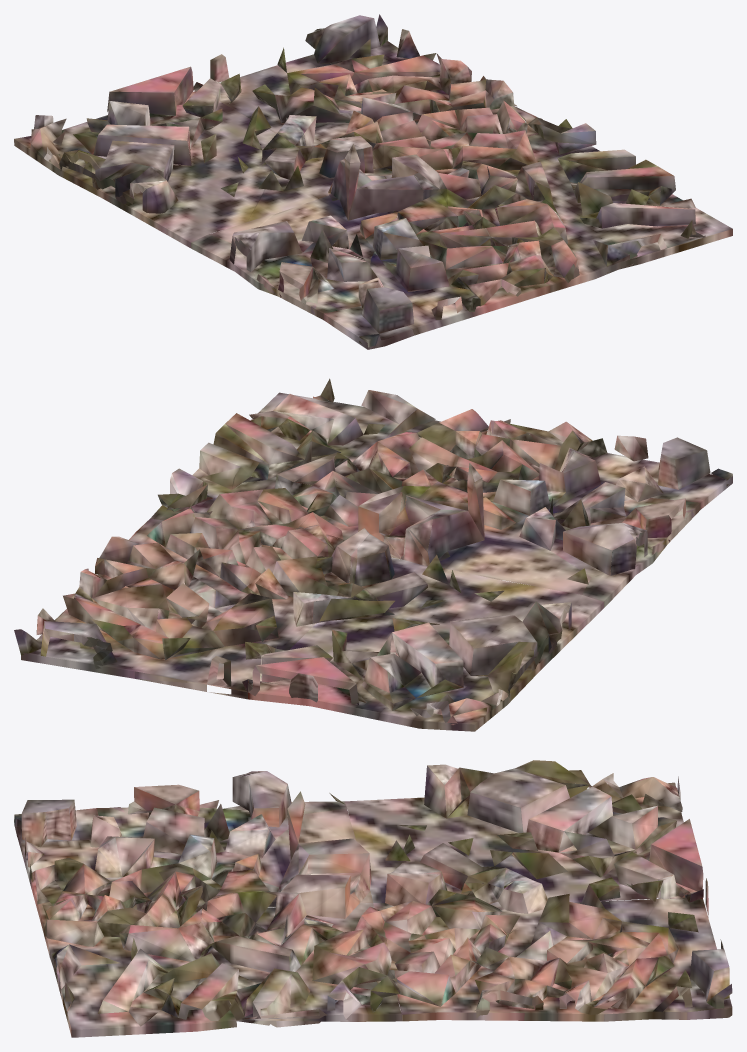
3 views of the same model, one above another, from view 1: azimuth 30°, elevation 25°; view 2: azimuth 150°, elevation 25°; view 3: azimuth 270°, elevation 25° (orthographic). The views are drawn at different scales.
Visible parts, largest first — view 1: Mesh_0; view 2: Mesh_0; view 3: Mesh_0.
Part boxes in pixels (<box>): Mesh_0: <box>14,14,732,349</box>; Mesh_0: <box>14,378,732,731</box>; Mesh_0: <box>14,760,732,1037</box>.
Bounding box in the file's own units: 266 × 54.3 × 330.
2 materials, 2 textured.
